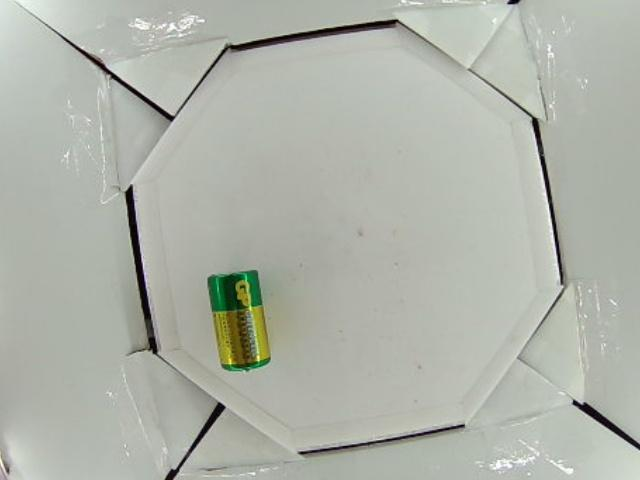Battery: (203, 269, 271, 372)
